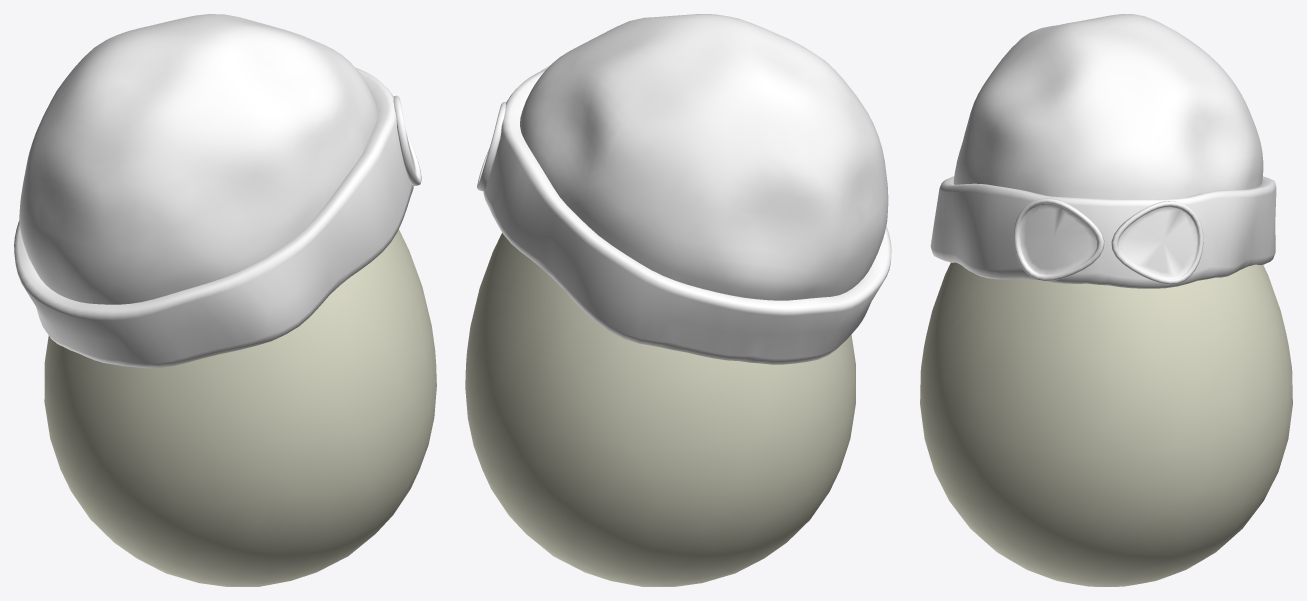
The model's file is beanieegg_compressed.glb.
The picture shows the model from 3 angles, left to right: view 1: azimuth 30°, elevation 25°; view 2: azimuth 150°, elevation 25°; view 3: azimuth 270°, elevation 25°; orthographic projection. The views are drawn at different scales.
Visible parts, largest first — view 1: cp beanie_Material.003_0, Icosphere; view 2: cp beanie_Material.003_0, Icosphere; view 3: Icosphere, cp beanie_Material.003_0.
Part boxes in pixels (box(x1,y1,x2,y2)): cp beanie_Material.003_0: box(14, 14, 421, 368); Icosphere: box(44, 229, 436, 586); cp beanie_Material.003_0: box(477, 14, 891, 364); Icosphere: box(465, 233, 855, 586); Icosphere: box(920, 262, 1292, 586); cp beanie_Material.003_0: box(930, 14, 1276, 288).
Size of the model in its own units: 1.65 by 2.32 by 1.51.
